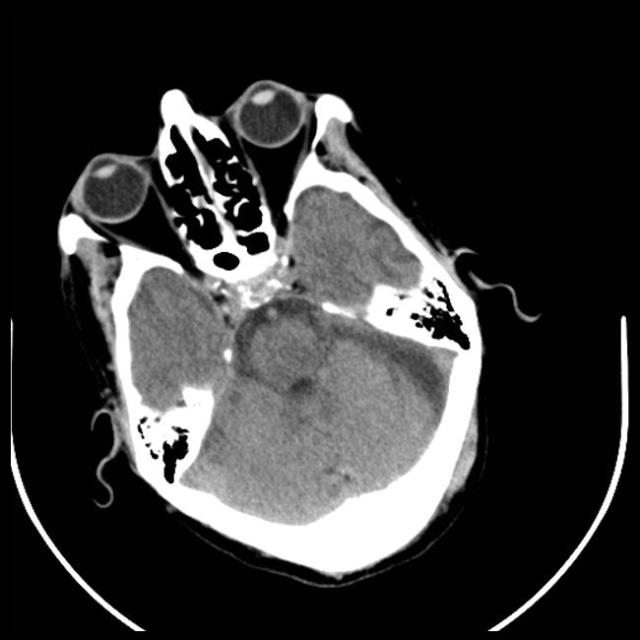lesion: (52, 76, 519, 584)
